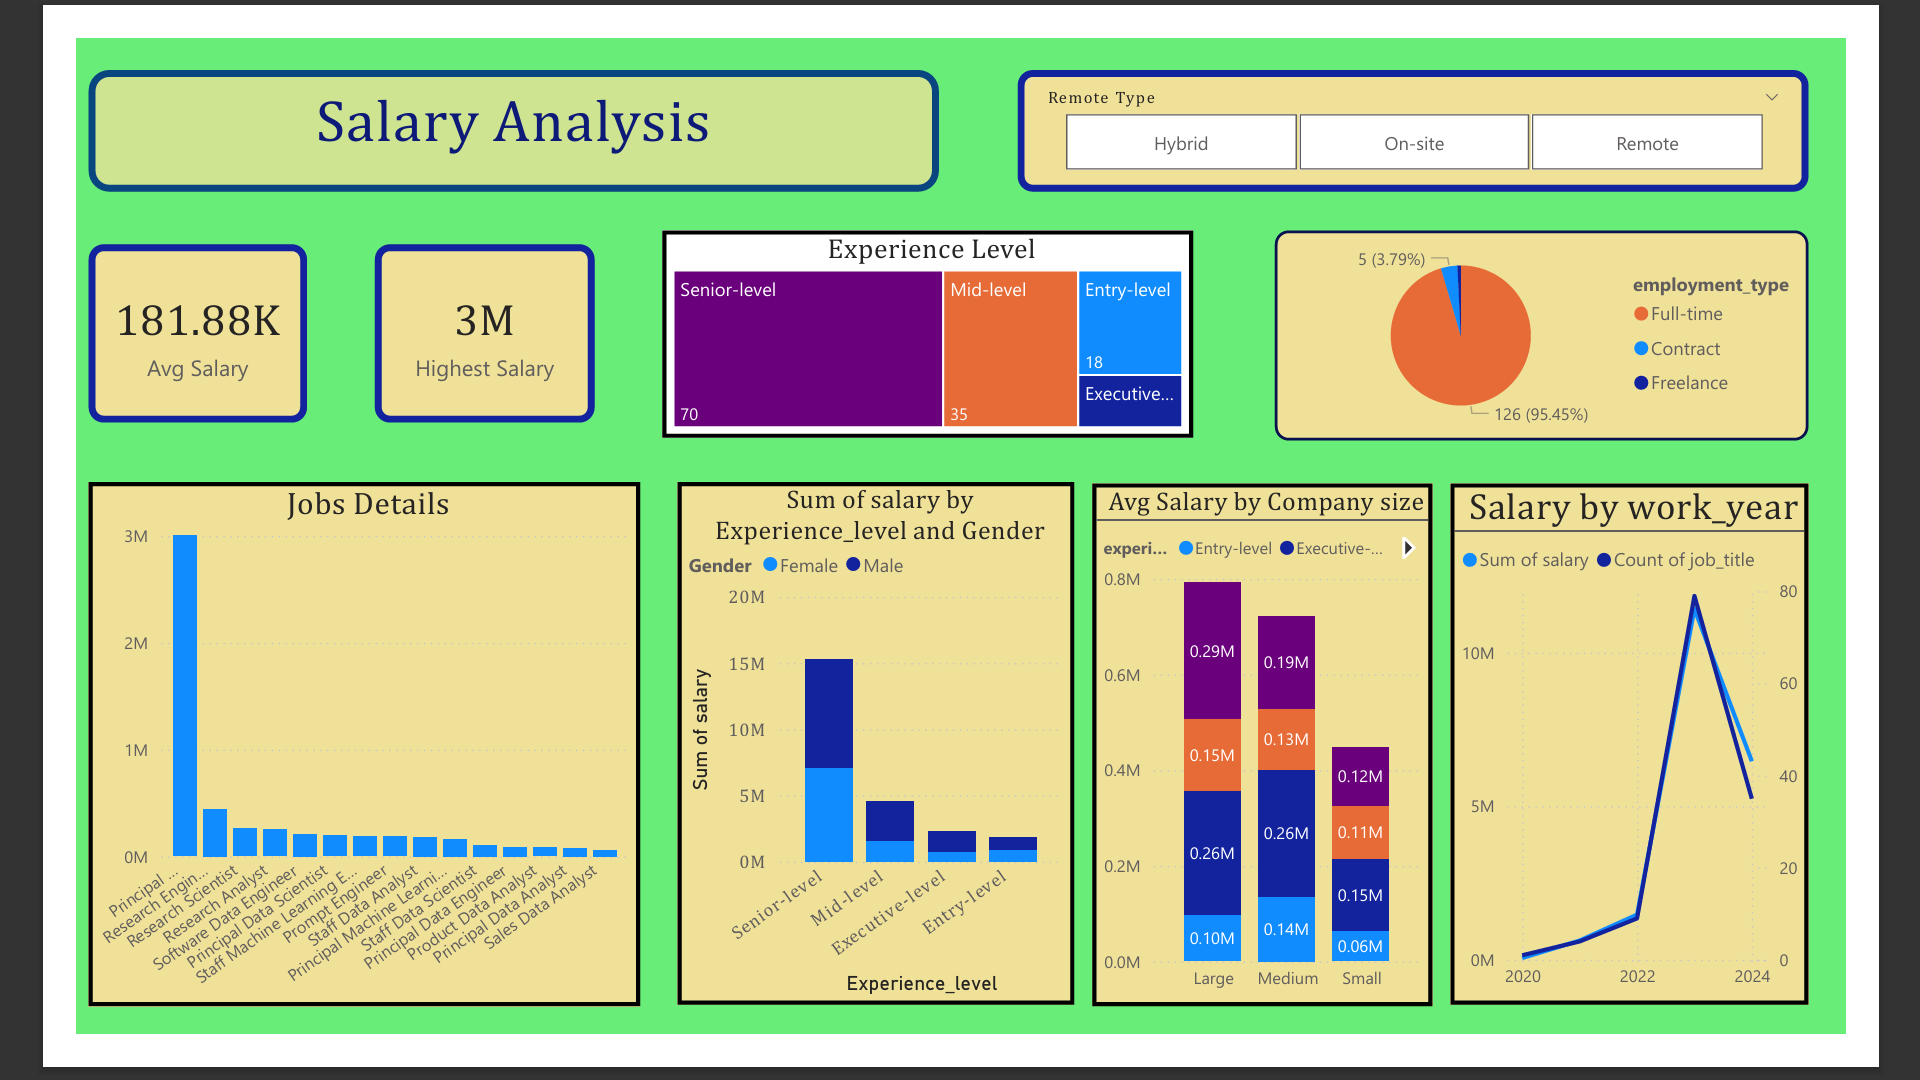

This screenshot's page, from the dashboard's own definition file:
{"tool":"powerbi","page":{"name":"Page 2","canvas":[1280,720],"ordinal":1},"visuals":[{"type":"card","fields":{"Values":["data_science_salaries.Avg Salary"]},"box":[8.5,149,158.8,129.4],"z":1},{"type":"card","fields":{"Values":["data_science_salaries.Highest Salary"]},"box":[216.2,149,158.8,129.4],"z":2},{"type":"clusteredColumnChart","title":"Jobs Details ","fields":{"Category":["data_science_salaries.job_title"],"Y":["data_science_salaries.Avg Salary"]},"box":[8.5,321.2,399.3,378.6],"z":5},{"type":"columnChart","fields":{"Category":["data_science_salaries.experience_level"],"Y":["Sum(data_science_salaries.salary)"],"Series":["data_science_salaries.Gender"]},"box":[434.8,321.2,287,377.4],"z":6},{"type":"columnChart","title":"Avg Salary by Company size ","fields":{"Category":["data_science_salaries.company_size"],"Y":["data_science_salaries.Avg Salary"],"Series":["data_science_salaries.experience_level"]},"box":[735.2,322.4,245.5,377.4],"z":7},{"type":"textbox","box":[8.5,23.2,615.5,87.9],"z":8},{"type":"lineChart","title":"Salary by work_year","fields":{"Category":["data_science_salaries.work_year"],"Y":["Sum(data_science_salaries.salary)"],"Y2":["CountNonNull(data_science_salaries.job_title)"]},"box":[994.1,322.4,258.9,376.1],"z":9},{"type":"slicer","title":"Gender","fields":{"Values":["data_science_salaries.Remote Type"]},"box":[681.4,23.2,571.5,87.9],"z":10},{"type":"pieChart","fields":{"Category":["data_science_salaries.employment_type"],"Y":["CountNonNull(data_science_salaries.employment_type)"]},"box":[867.1,139.2,385.9,151.4],"z":11},{"type":"treemap","title":"Experience Level ","fields":{"Group":["data_science_salaries.experience_level"],"Values":["CountNonNull(data_science_salaries.experience_level)"]},"box":[423.8,139.2,384.7,150.2],"z":12}]}

Visuals, with their boxes in screenshot pixels (x1, y1, x2, y2), scaled from the page's 1280x720 canvas onto the 1920x1080 screenshot:
card - data_science_salaries.Avg Salary: {"left": 13, "top": 224, "right": 251, "bottom": 418}
card - data_science_salaries.Highest Salary: {"left": 324, "top": 224, "right": 562, "bottom": 418}
"Jobs Details " clusteredColumnChart: {"left": 13, "top": 482, "right": 612, "bottom": 1050}
columnChart - data_science_salaries.experience_level x Sum(data_science_salaries.salary): {"left": 652, "top": 482, "right": 1083, "bottom": 1048}
"Avg Salary by Company size " columnChart: {"left": 1103, "top": 484, "right": 1471, "bottom": 1050}
textbox: {"left": 13, "top": 35, "right": 936, "bottom": 167}
"Salary by work_year" lineChart: {"left": 1491, "top": 484, "right": 1880, "bottom": 1048}
"Gender" slicer: {"left": 1022, "top": 35, "right": 1879, "bottom": 167}
pieChart - data_science_salaries.employment_type x CountNonNull(data_science_salaries.employment_type): {"left": 1301, "top": 209, "right": 1880, "bottom": 436}
"Experience Level " treemap: {"left": 636, "top": 209, "right": 1213, "bottom": 434}
